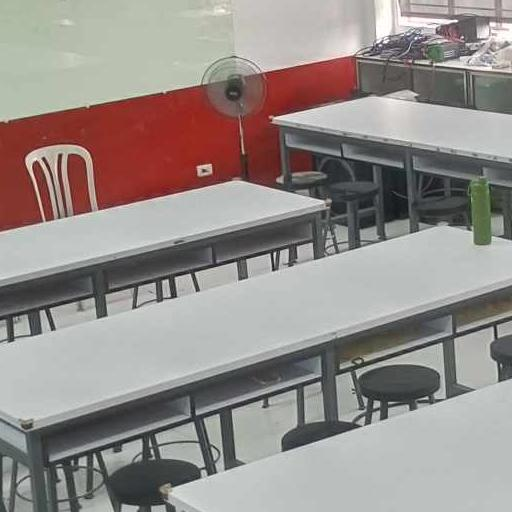Fan: (192, 45, 278, 128)
